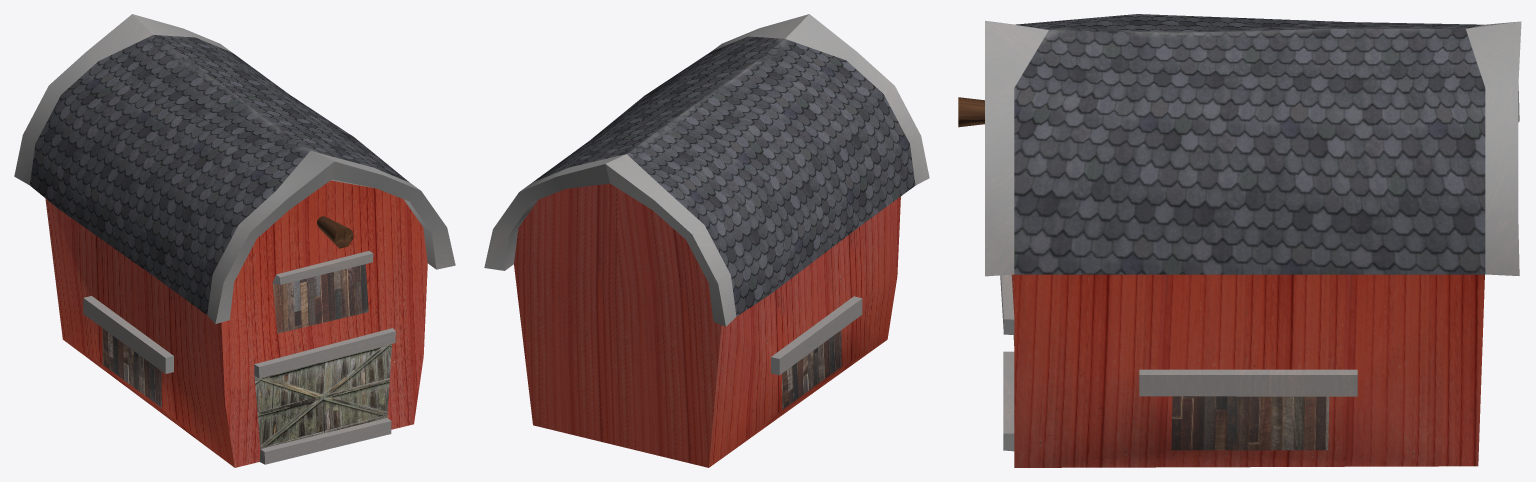
File: barn.fbx
The picture shows the model from 3 angles, left to right: view 1: azimuth 30°, elevation 25°; view 2: azimuth 150°, elevation 25°; view 3: azimuth 270°, elevation 25°; orthographic projection. The views are drawn at different scales.
Visible parts, largest first — view 1: barn; view 2: barn; view 3: barn.
Part boxes in pixels (<box>): barn: <box>14,14,455,467</box>; barn: <box>484,14,929,467</box>; barn: <box>958,14,1521,467</box>.
Bounding box in the file's own units: 387 × 450 × 591.
